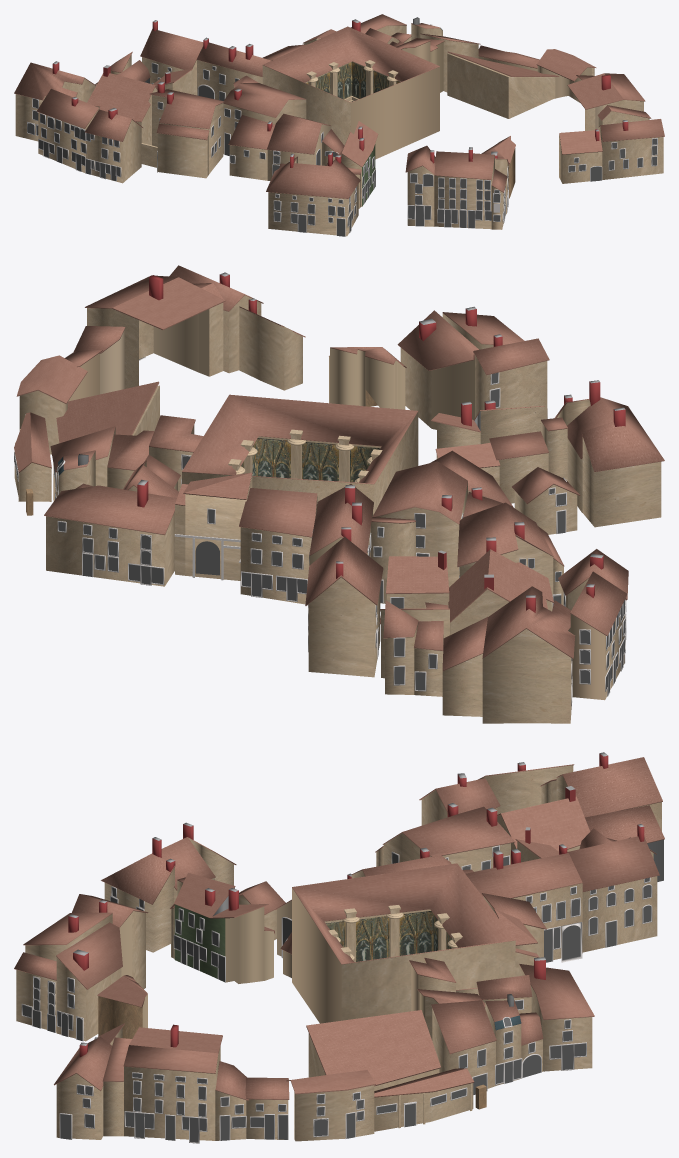
The model's file is ilot35combine.fbx.
3 views of the same model, one above another, from view 1: azimuth 30°, elevation 25°; view 2: azimuth 150°, elevation 25°; view 3: azimuth 270°, elevation 25° (orthographic). The views are drawn at different scales.
Visible parts, largest first — view 1: _ILOT35BAT1, _ILOT35BAT19, _ILOT35BAT51, _ILOT35BAT18, _ILOT35BAT29, _ILOT35BAT23, _ILOT35BAT9, _ILOT35BAT13, _ILOT35BAT8, _ILOT35BAT12, _ILOT35BAT11, _ILOT35BAT4 (+22 smaller); view 2: _ILOT35BAT1, _ILOT35BAT32, _ILOT35BAT17, _ILOT35BAT8, _ILOT35BAT19, _ILOT35BAT5, _ILOT35BAT31, _ILOT35BAT52, _ILOT35BAT25, _ILOT35BAT12, _ILOT35BAT9, _ILOT35BAT13 (+30 smaller); view 3: _ILOT35BAT1, _ILOT35BAT25, _ILOT35BAT17, _ILOT35BAT21, _ILOT35BAT5, _ILOT35BAT51, _ILOT35BAT11, _ILOT35BAT19, _ILOT35BAT32, _ILOT35BAT13, _ILOT35BAT33, _ILOT35BAT8 (+24 smaller).
Part boxes in pixels (<box>): _ILOT35BAT1: <box>262,26,439,159</box>; _ILOT35BAT19: <box>266,152,360,236</box>; _ILOT35BAT51: <box>447,51,559,118</box>; _ILOT35BAT18: <box>434,147,494,229</box>; _ILOT35BAT29: <box>85,108,142,183</box>; _ILOT35BAT23: <box>598,119,664,179</box>; _ILOT35BAT9: <box>36,89,99,172</box>; _ILOT35BAT13: <box>149,81,224,174</box>; _ILOT35BAT8: <box>14,61,96,141</box>; _ILOT35BAT12: <box>223,83,306,155</box>; _ILOT35BAT11: <box>196,37,271,101</box>; _ILOT35BAT4: <box>87,65,157,145</box>; _ILOT35BAT1: <box>182,394,418,514</box>; _ILOT35BAT32: <box>44,479,176,586</box>; _ILOT35BAT17: <box>397,310,549,429</box>; _ILOT35BAT8: <box>482,586,574,723</box>; _ILOT35BAT19: <box>554,380,664,527</box>; _ILOT35BAT5: <box>305,536,383,677</box>; _ILOT35BAT31: <box>207,488,317,604</box>; _ILOT35BAT52: <box>174,472,252,580</box>; _ILOT35BAT25: <box>85,275,225,388</box>; _ILOT35BAT12: <box>372,461,467,587</box>; _ILOT35BAT9: <box>570,571,627,700</box>; _ILOT35BAT13: <box>457,502,561,611</box>; _ILOT35BAT1: <box>292,863,515,1023</box>; _ILOT35BAT25: <box>123,1024,222,1143</box>; _ILOT35BAT17: <box>56,894,148,1041</box>; _ILOT35BAT21: <box>173,872,268,983</box>; _ILOT35BAT5: <box>567,824,659,952</box>; _ILOT35BAT51: <box>306,1010,440,1090</box>; _ILOT35BAT11: <box>465,844,582,962</box>; _ILOT35BAT19: <box>101,822,236,952</box>; _ILOT35BAT32: <box>519,957,594,1071</box>; _ILOT35BAT13: <box>382,803,514,871</box>; _ILOT35BAT33: <box>286,1070,376,1141</box>; _ILOT35BAT8: <box>540,752,662,831</box>.
Size of the model in its own units: 16.87 by 2.82 by 14.45.
